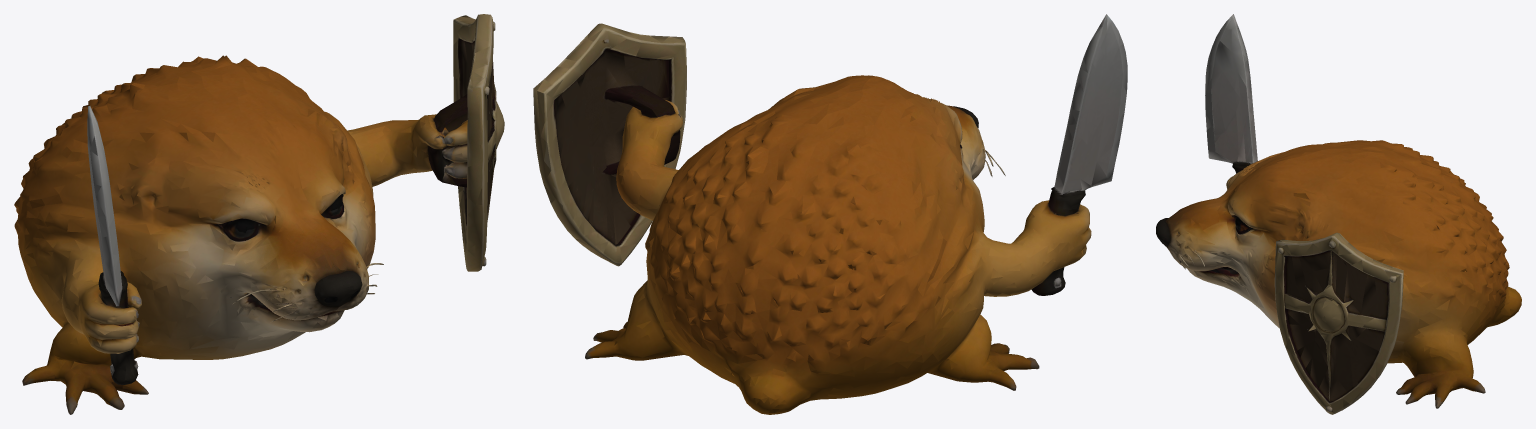
File: vanguard_model.fbx
The picture shows the model from 3 angles, left to right: view 1: azimuth 30°, elevation 25°; view 2: azimuth 150°, elevation 25°; view 3: azimuth 270°, elevation 25°; orthographic projection. The views are drawn at different scales.
Visible parts, largest first — view 1: tripo_node_c81dbeaa; view 2: tripo_node_c81dbeaa; view 3: tripo_node_c81dbeaa.
Part boxes in pixels (x1,y1,x2,y2): tripo_node_c81dbeaa: [14, 14, 504, 414]; tripo_node_c81dbeaa: [533, 14, 1127, 414]; tripo_node_c81dbeaa: [1156, 14, 1521, 414].
Size of the model in its own units: 0.9793 by 0.6501 by 0.8433.
Materials: 1 (1 with a texture image).
